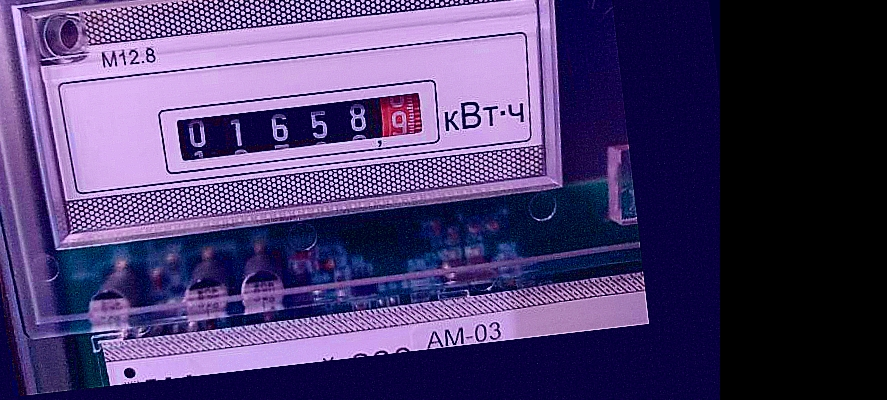0: (184, 115, 209, 149)
1: (228, 115, 245, 147)
5: (308, 106, 331, 140)
6: (268, 109, 292, 142)
8: (347, 99, 369, 133)
9: (388, 107, 408, 135)
screen: (149, 68, 447, 179)
